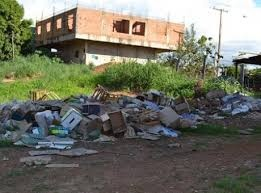rubble: (5, 87, 253, 133)
